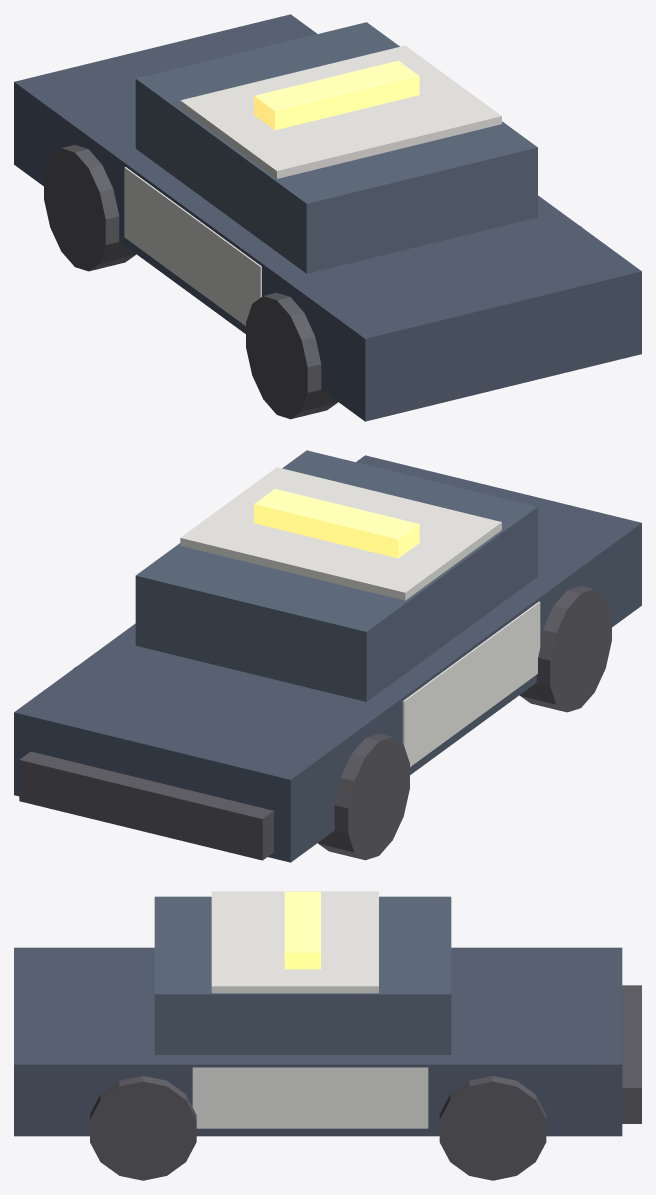
The model's file is police_cruiser.glb.
The picture shows the model from 3 angles, top to bottom: view 1: azimuth 30°, elevation 25°; view 2: azimuth 150°, elevation 25°; view 3: azimuth 270°, elevation 25°; orthographic projection. The views are drawn at different scales.
Size of the model in its own units: 2 by 1.41 by 4.13.
